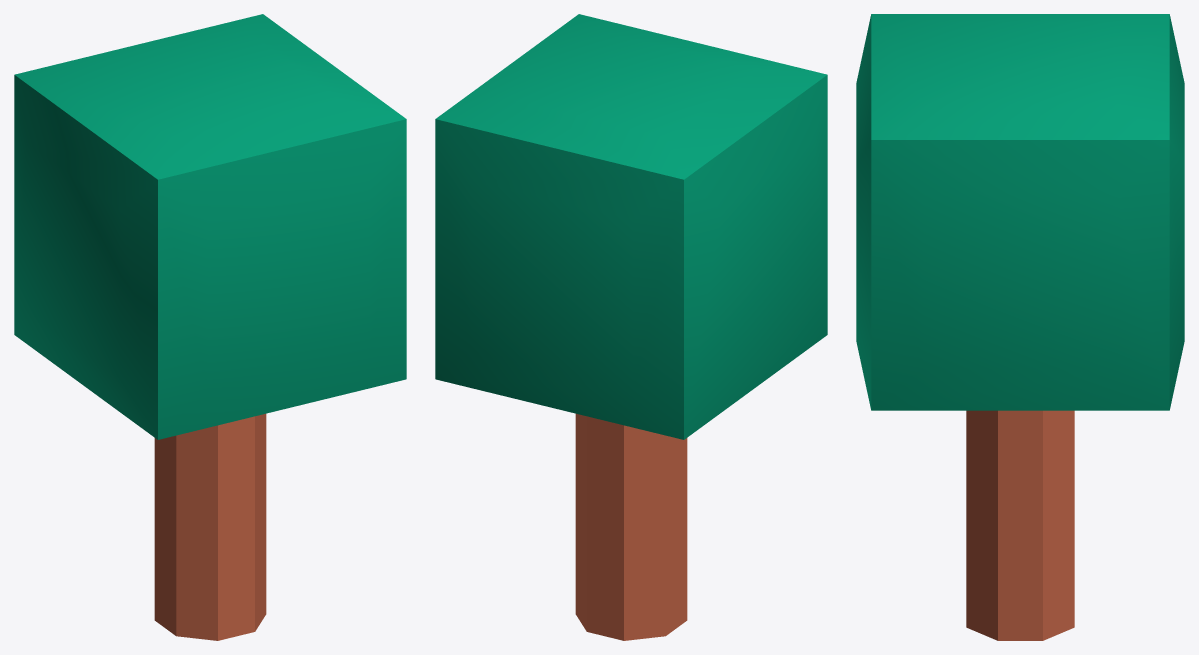
Rendered from Demo_Tree_Cubed.fbx.
The picture shows the model from 3 angles, left to right: view 1: azimuth 30°, elevation 25°; view 2: azimuth 150°, elevation 25°; view 3: azimuth 270°, elevation 25°; orthographic projection. The views are drawn at different scales.
Parts seen in each view (by area): view 1: mergedBlocks; view 2: mergedBlocks; view 3: mergedBlocks.
Boxes of the visible parts, left/top/right/bottom form: mergedBlocks: left=14, top=14, right=406, bottom=640; mergedBlocks: left=435, top=14, right=827, bottom=640; mergedBlocks: left=856, top=14, right=1184, bottom=640.
Bounding box in the file's own units: 11 × 20.5 × 11.
